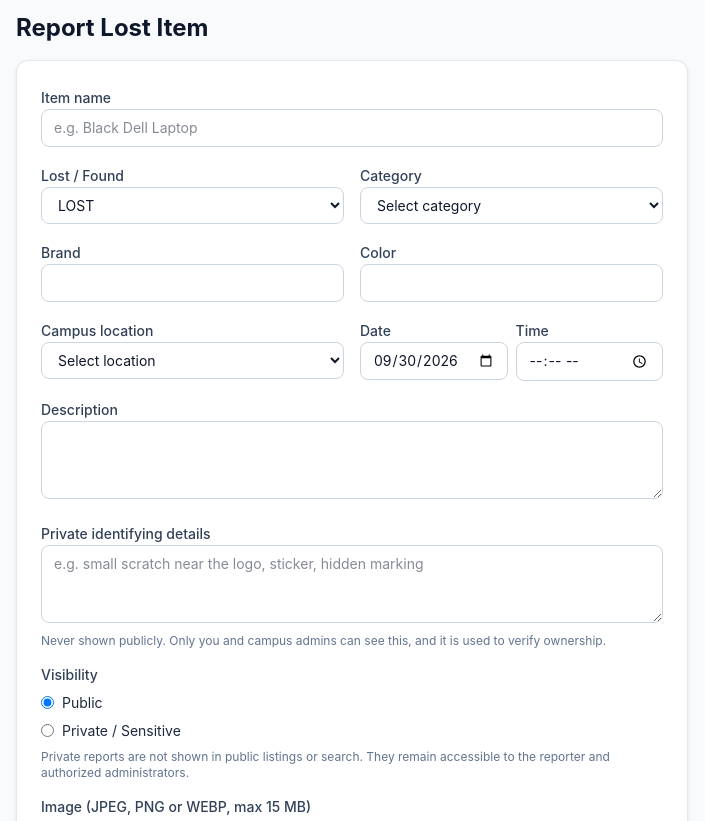
can switch the report to Private / Sensitive
What coordinates should you click on to do the following:
click the radio button labelled "Private / Sensitive"
I would click on:
 (48, 731)
Its box is 41,724 -> 54,737.
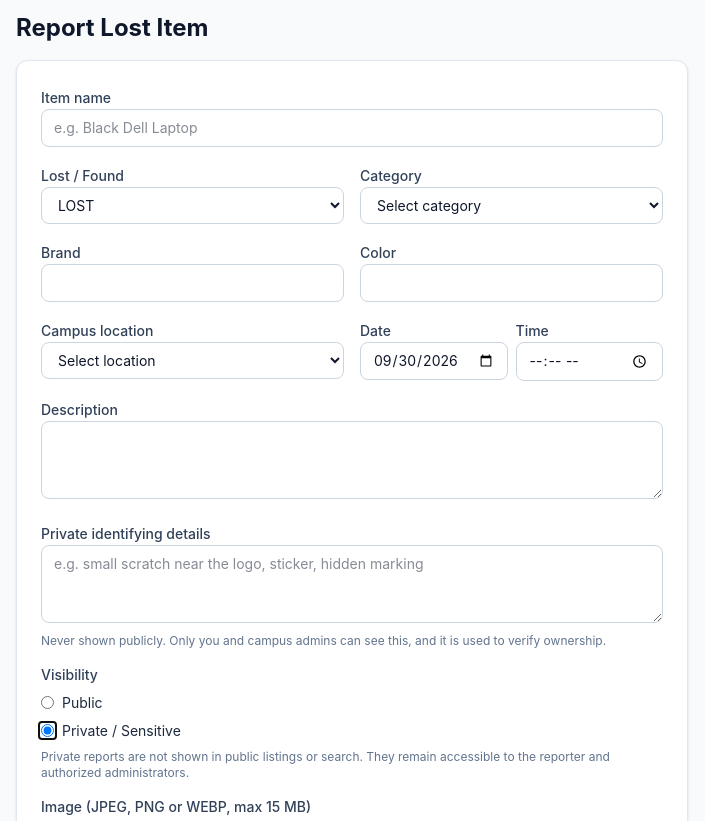
Now the radio button labelled "Private / Sensitive" is checked, box 41,724 -> 54,737
Now the radio button labelled "Public" is not checked, box 41,696 -> 54,709
